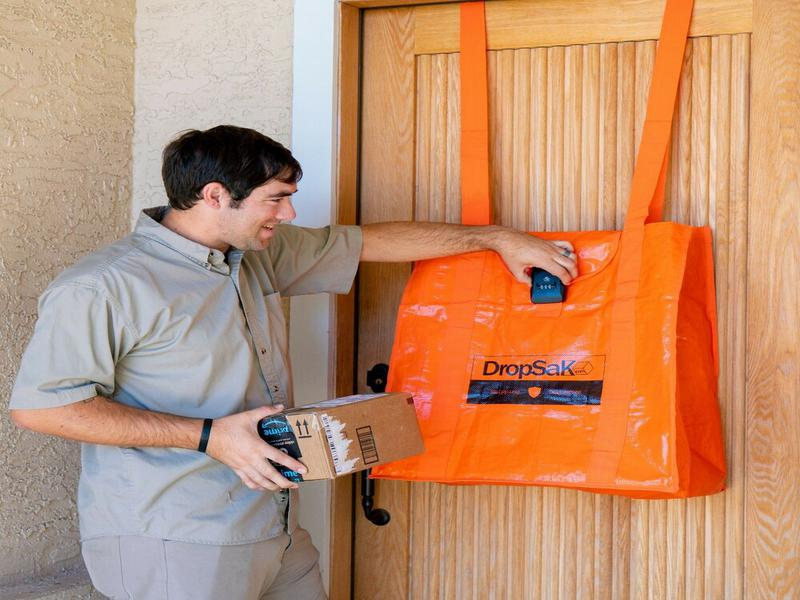package: (236, 386, 431, 488)
